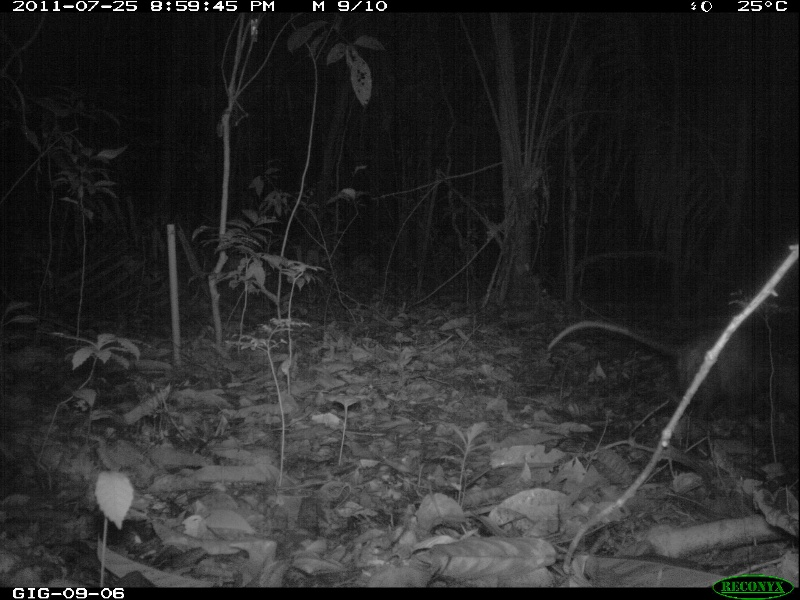opossum: (549, 313, 776, 405)
